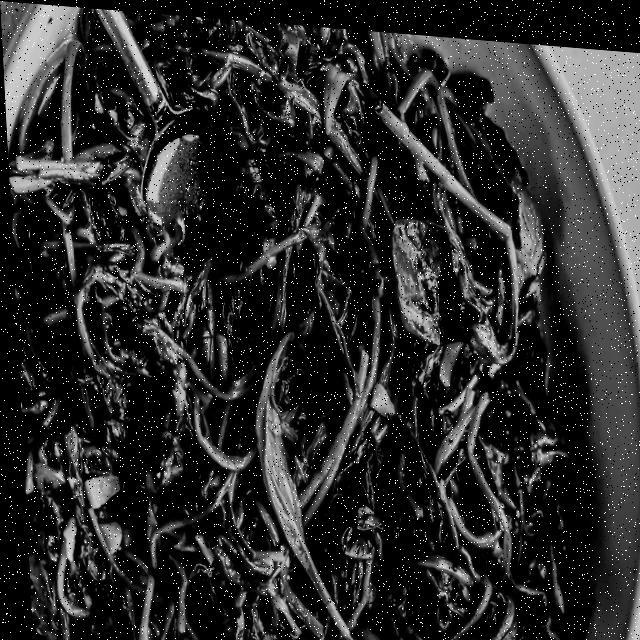Spinach: (0, 0, 586, 640)
